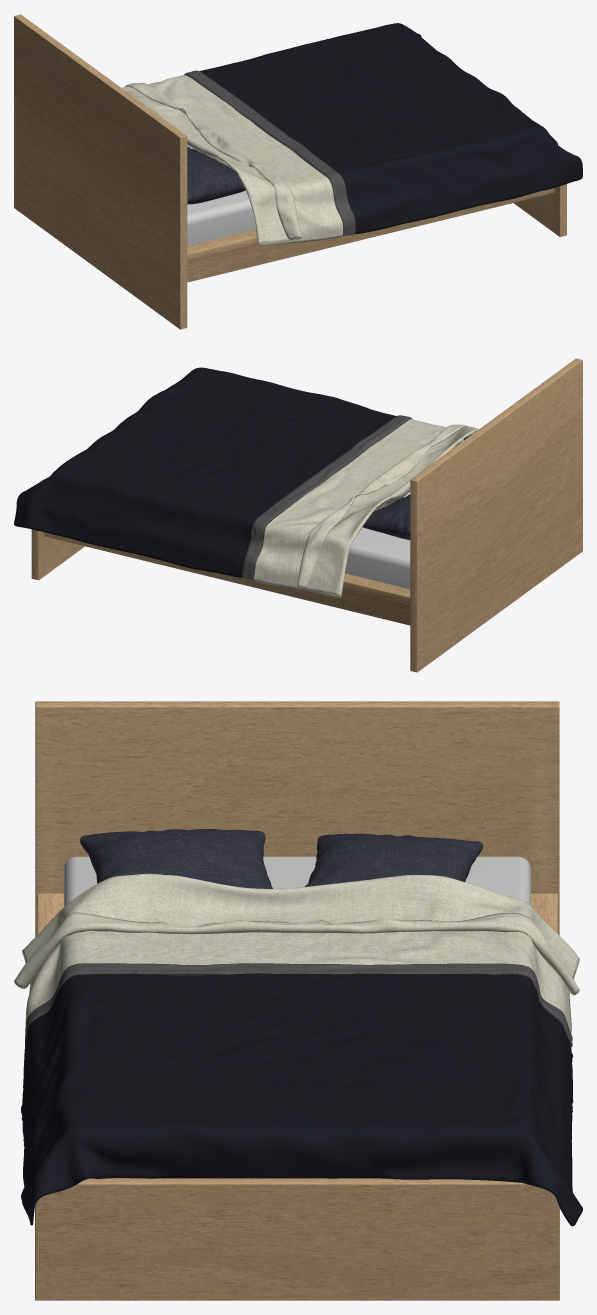
The model's file is MALM sketchfab.fbx.
The picture shows the model from 3 angles, top to bottom: view 1: azimuth 30°, elevation 25°; view 2: azimuth 150°, elevation 25°; view 3: azimuth 270°, elevation 25°; orthographic projection. The views are drawn at different scales.
Parts seen in each view (by area): view 1: bedsheets, MALM_frame, matress, pillow1; view 2: bedsheets, MALM_frame, matress, pillow2; view 3: bedsheets, MALM_frame, pillow1, pillow2, matress.
Part boxes in pixels (x1=…): bedsheets: x1=121, y1=23, x2=582, y2=245; MALM_frame: x1=14, y1=14, x2=566, y2=329; matress: x1=187, y1=146, x2=256, y2=245; pillow1: x1=187, y1=146, x2=245, y2=204; bedsheets: x1=14, y1=367, x2=478, y2=597; MALM_frame: x1=31, y1=358, x2=582, y2=672; matress: x1=345, y1=439, x2=463, y2=589; pillow2: x1=362, y1=494, x2=410, y2=540; bedsheets: x1=14, y1=873, x2=582, y2=1226; MALM_frame: x1=35, y1=701, x2=559, y2=1300; pillow1: x1=80, y1=829, x2=272, y2=888; pillow2: x1=305, y1=833, x2=483, y2=886; matress: x1=64, y1=856, x2=530, y2=1178.
Size of the model in its own units: 219 by 100 by 171.
